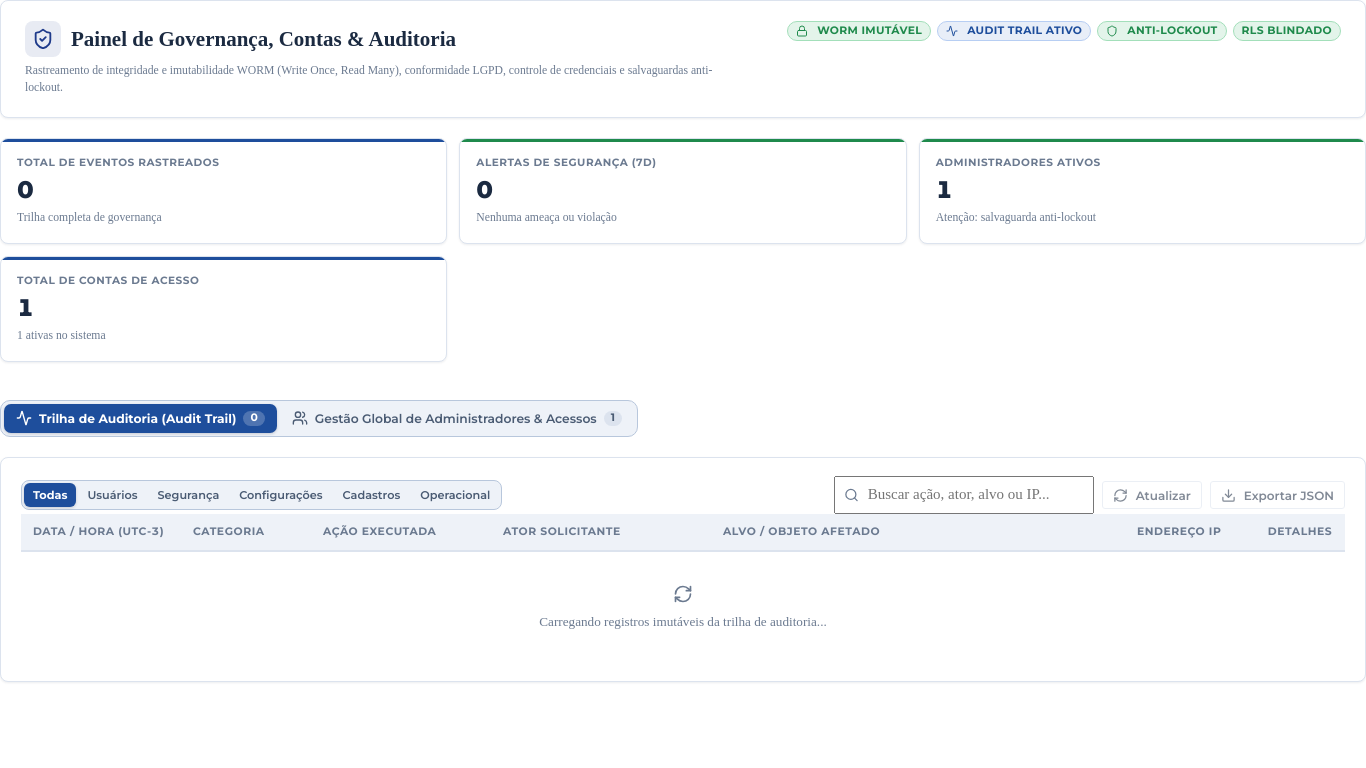
Scenario: AdminAuditView - Painel de Governança, Contas & Auditoria › 11. Anti-Lockout do último admin: bloqueia exclusão quando resta apenas 1 administrador ativo
The width and height of the screenshot is (1366, 768).
Click the tab "Gestão Global de Administradores & Acessos 1".
click(457, 418)  # box [280, 404, 634, 433]
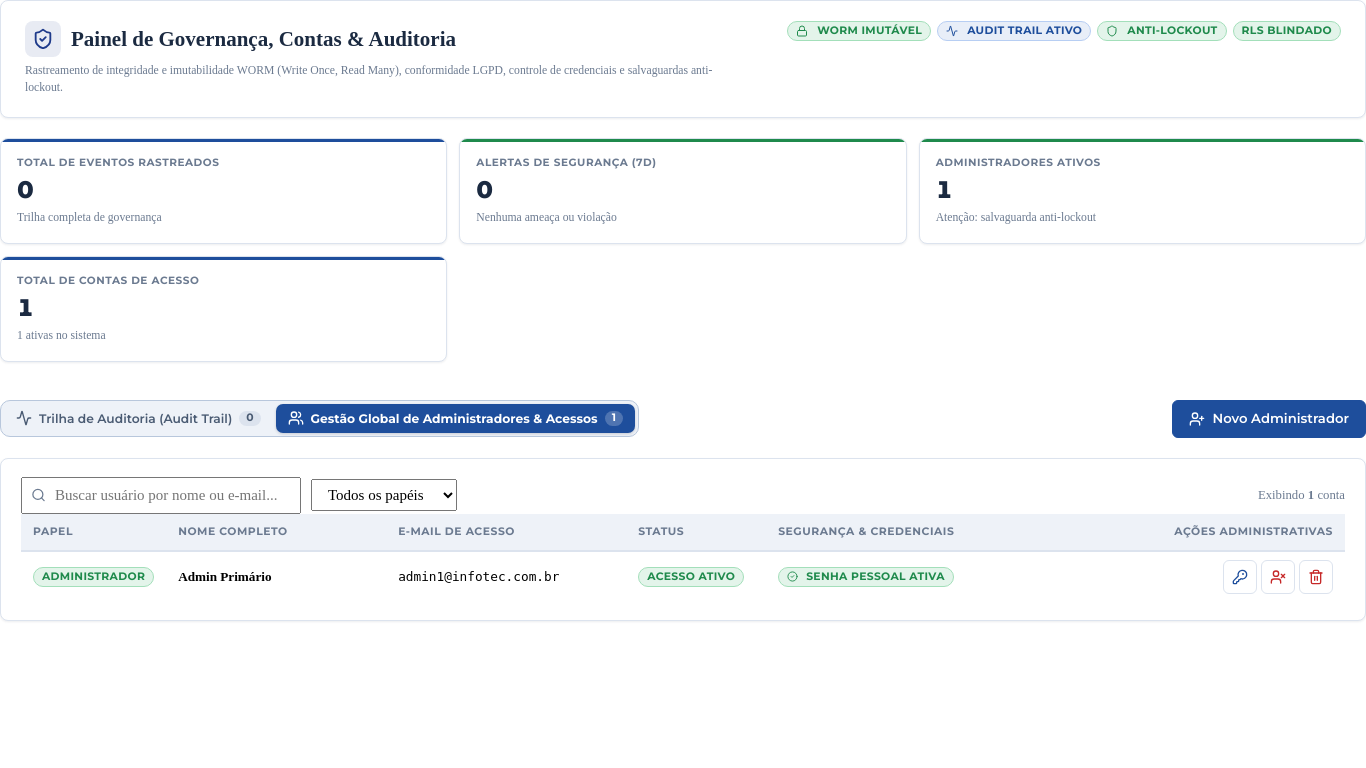
Click the button titled "Excluir conta definitivamente (admin1@infotec.com.br)".
click(1316, 577)  # box [1299, 560, 1333, 594]
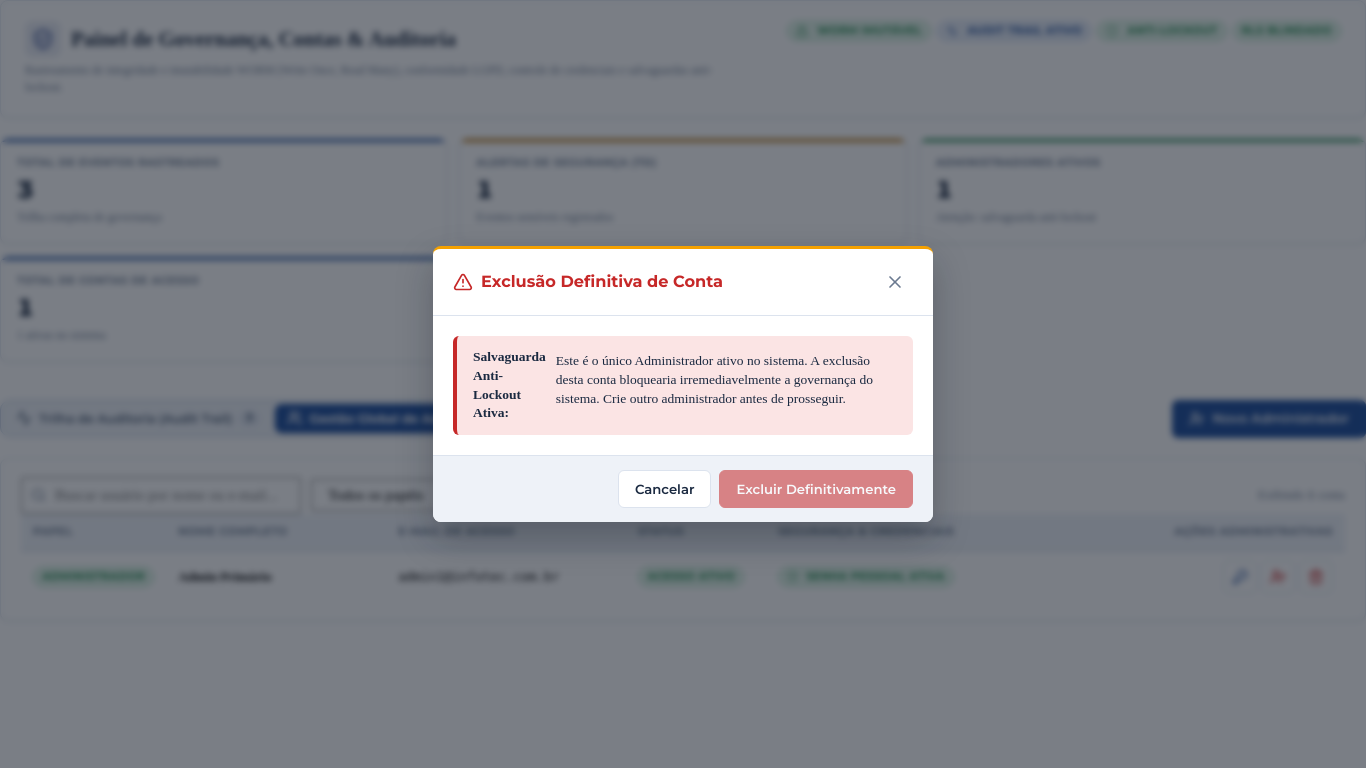
Check: the text "Salvaguarda Anti-Lockout Ativa:" is shown, box [473, 348, 546, 423]
Check: the button "Excluir Definitivamente" is disabled, box [720, 470, 913, 508]
